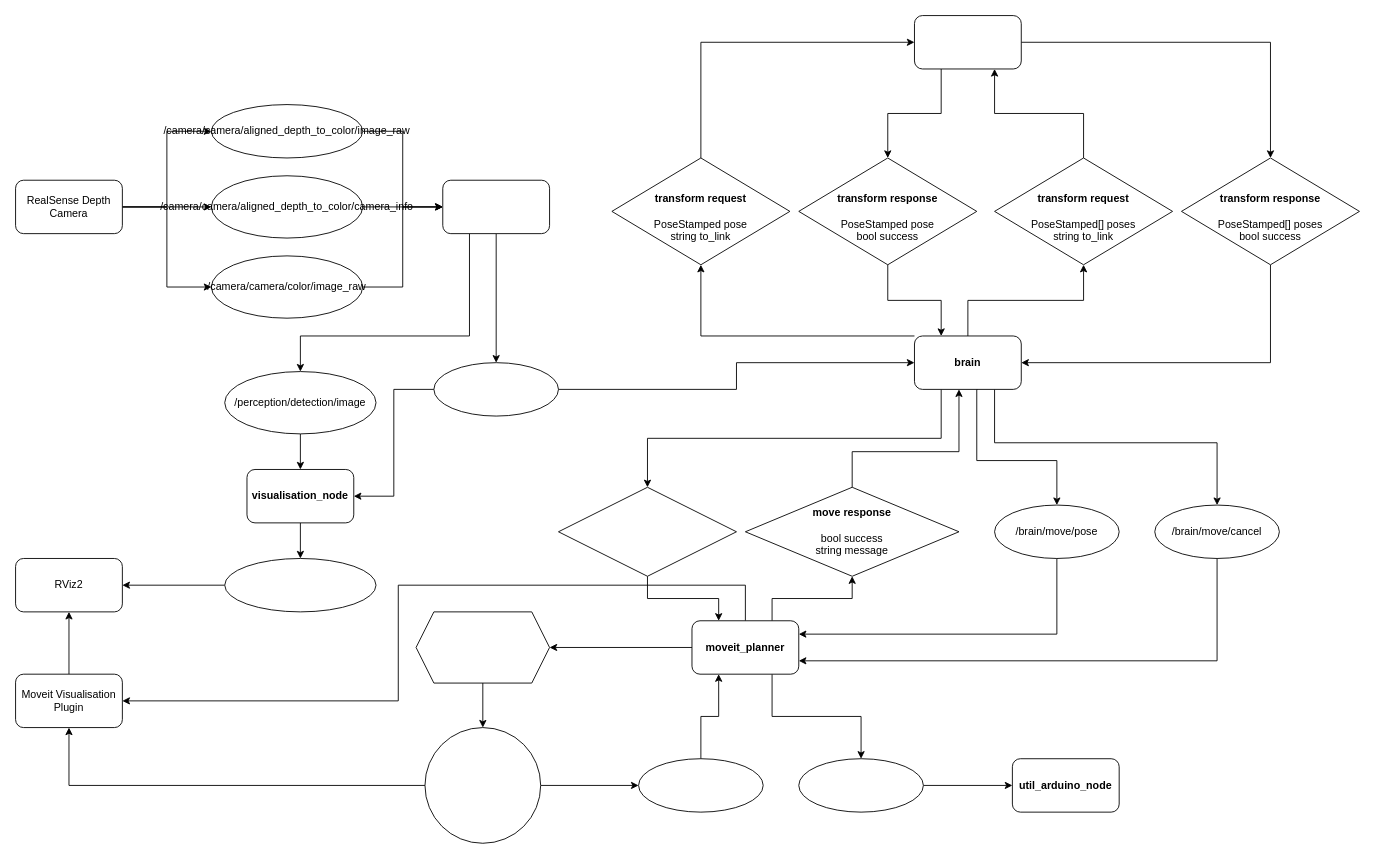
Some shapes in this 1375 by 859 pixel diagram are drawn without their labels. Here are the shapes that lost their labels. From the top down, the box of each, then its label:
(914, 15, 1021, 69): transform_node
(442, 179, 550, 234): item-detector
(433, 362, 558, 416): /camera/objects/labelled_pose_array
(558, 486, 736, 576): move request bool grasp Pose pose
(224, 558, 376, 612): /visualisation/object_array
(415, 611, 550, 683): control_msgs/FollowJointTrajectory
(424, 727, 541, 843): ur_robot_driver
(638, 758, 763, 812): /joint_states
(798, 758, 923, 812): /arduino_cmds
